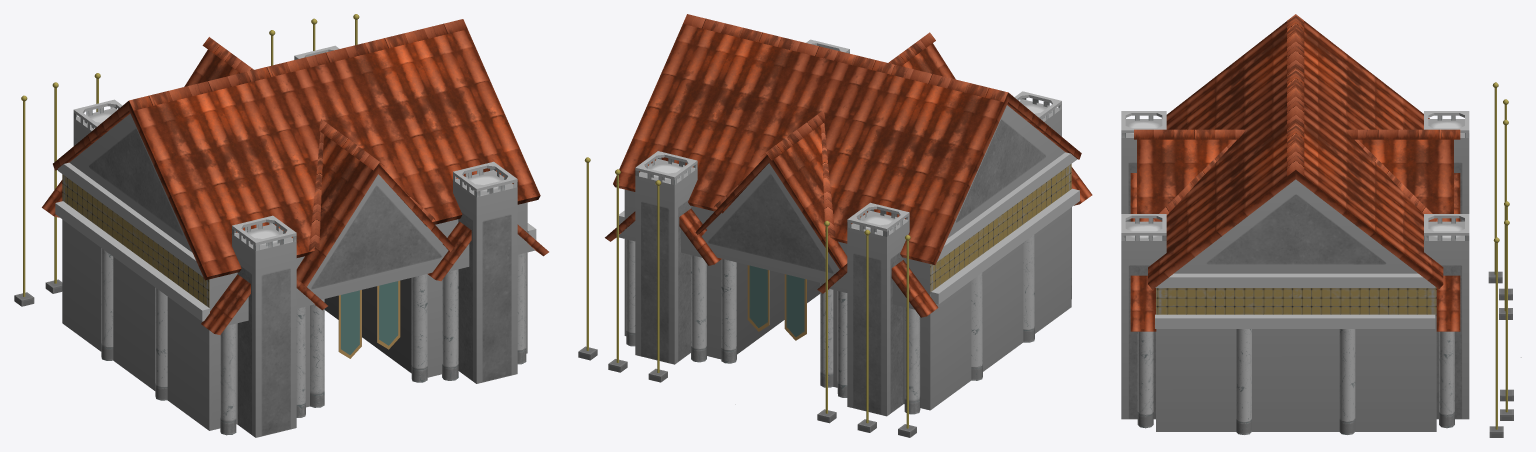
File: Municiopal.fbx
The picture shows the model from 3 angles, left to right: view 1: azimuth 30°, elevation 25°; view 2: azimuth 150°, elevation 25°; view 3: azimuth 270°, elevation 25°; orthographic projection. The views are drawn at different scales.
Visible parts, largest first — view 1: Municiopal; view 2: Municiopal; view 3: Municiopal.
Boxes of the visible parts, x1=… form: Municiopal: x1=14, y1=14, x2=548, y2=437; Municiopal: x1=578, y1=14, x2=1092, y2=437; Municiopal: x1=1121, y1=14, x2=1521, y2=437.
Bounding box in the file's own units: 4.66 × 3.61 × 4.9.
